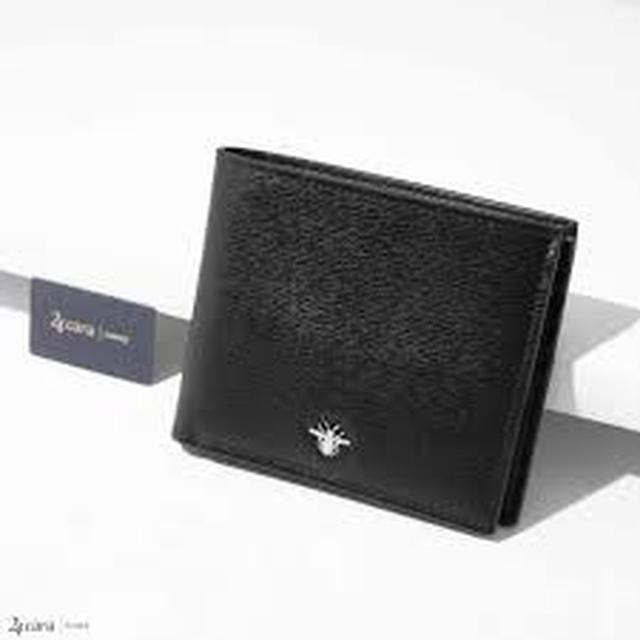wallet: (201, 144, 538, 532)
